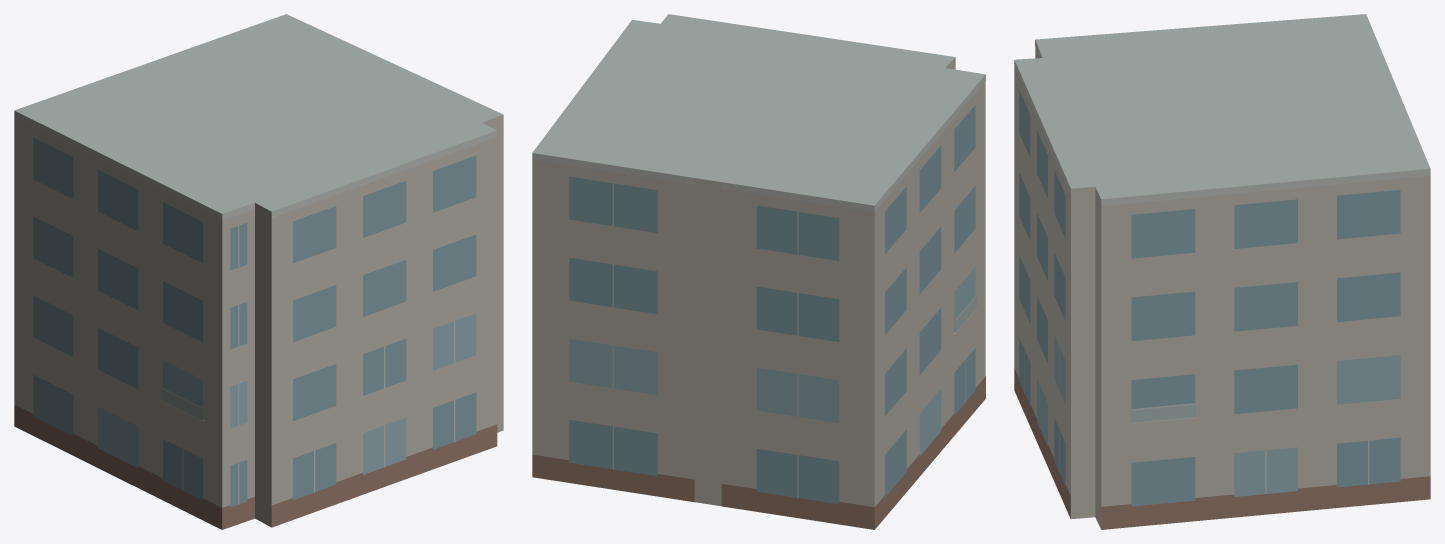
The model's file is survey-upis-32913983.glb.
The picture shows the model from 3 angles, left to right: view 1: azimuth 30°, elevation 25°; view 2: azimuth 150°, elevation 25°; view 3: azimuth 270°, elevation 25°; orthographic projection. The views are drawn at different scales.
Visible parts, largest first — view 1: survey-upis-32913983.tmp; view 2: survey-upis-32913983.tmp; view 3: survey-upis-32913983.tmp.
Boxes of the visible parts, x1,y1,x2,y2 form: survey-upis-32913983.tmp: (14,14,503,529); survey-upis-32913983.tmp: (532,14,985,529); survey-upis-32913983.tmp: (1014,14,1430,529).
Size of the model in its own units: 14.07 by 11.7 by 13.36.
